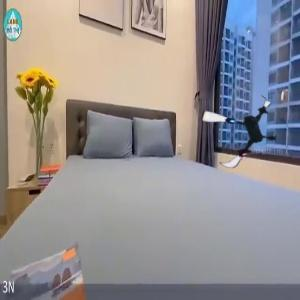drone: (200, 92, 284, 176)
